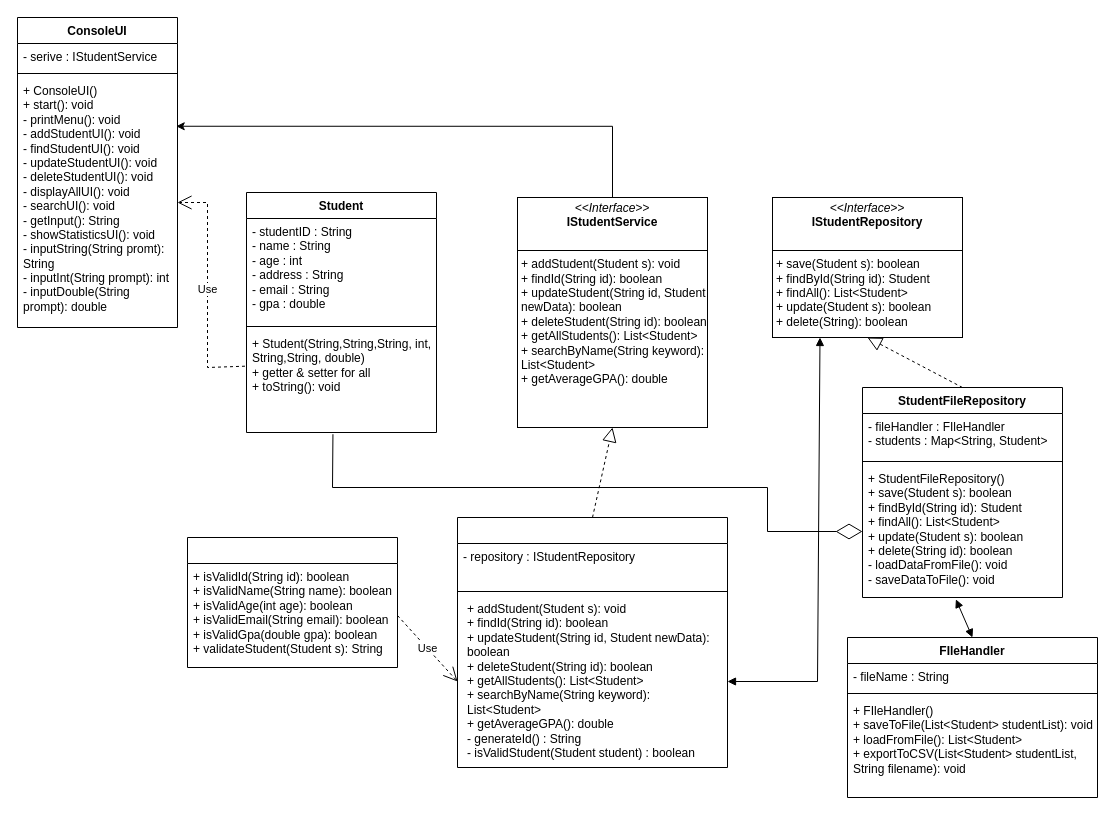
This 1115x818 diagram has some shape labels left out. The shapes that lost their labels are listed below. From the top down, each one's box as (x1, y1, x2, y2) in pixels, then its label:
(186, 536, 398, 668): ValidationUtils
(456, 516, 728, 768): StudentService
